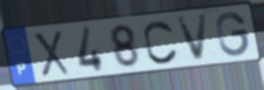4: (77, 25, 104, 74)
8: (107, 22, 143, 69)
C: (142, 19, 180, 66)
G: (214, 10, 251, 59)
V: (175, 11, 211, 64)
X: (31, 29, 72, 79)
